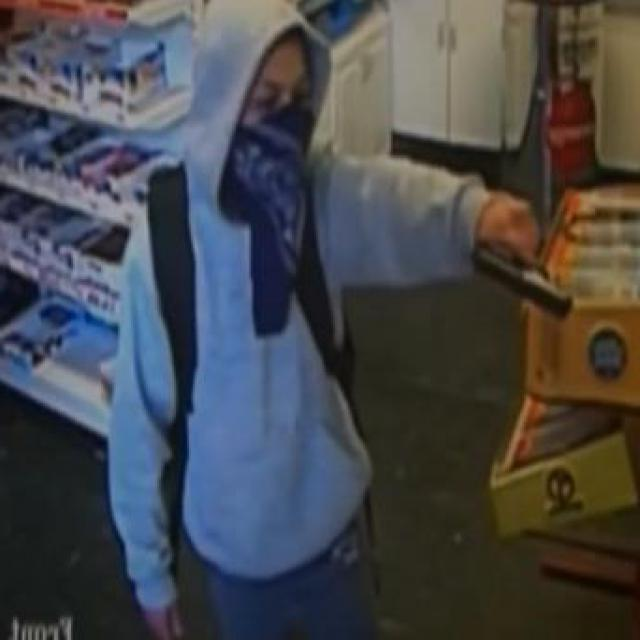Gun: (472, 195, 580, 321)
